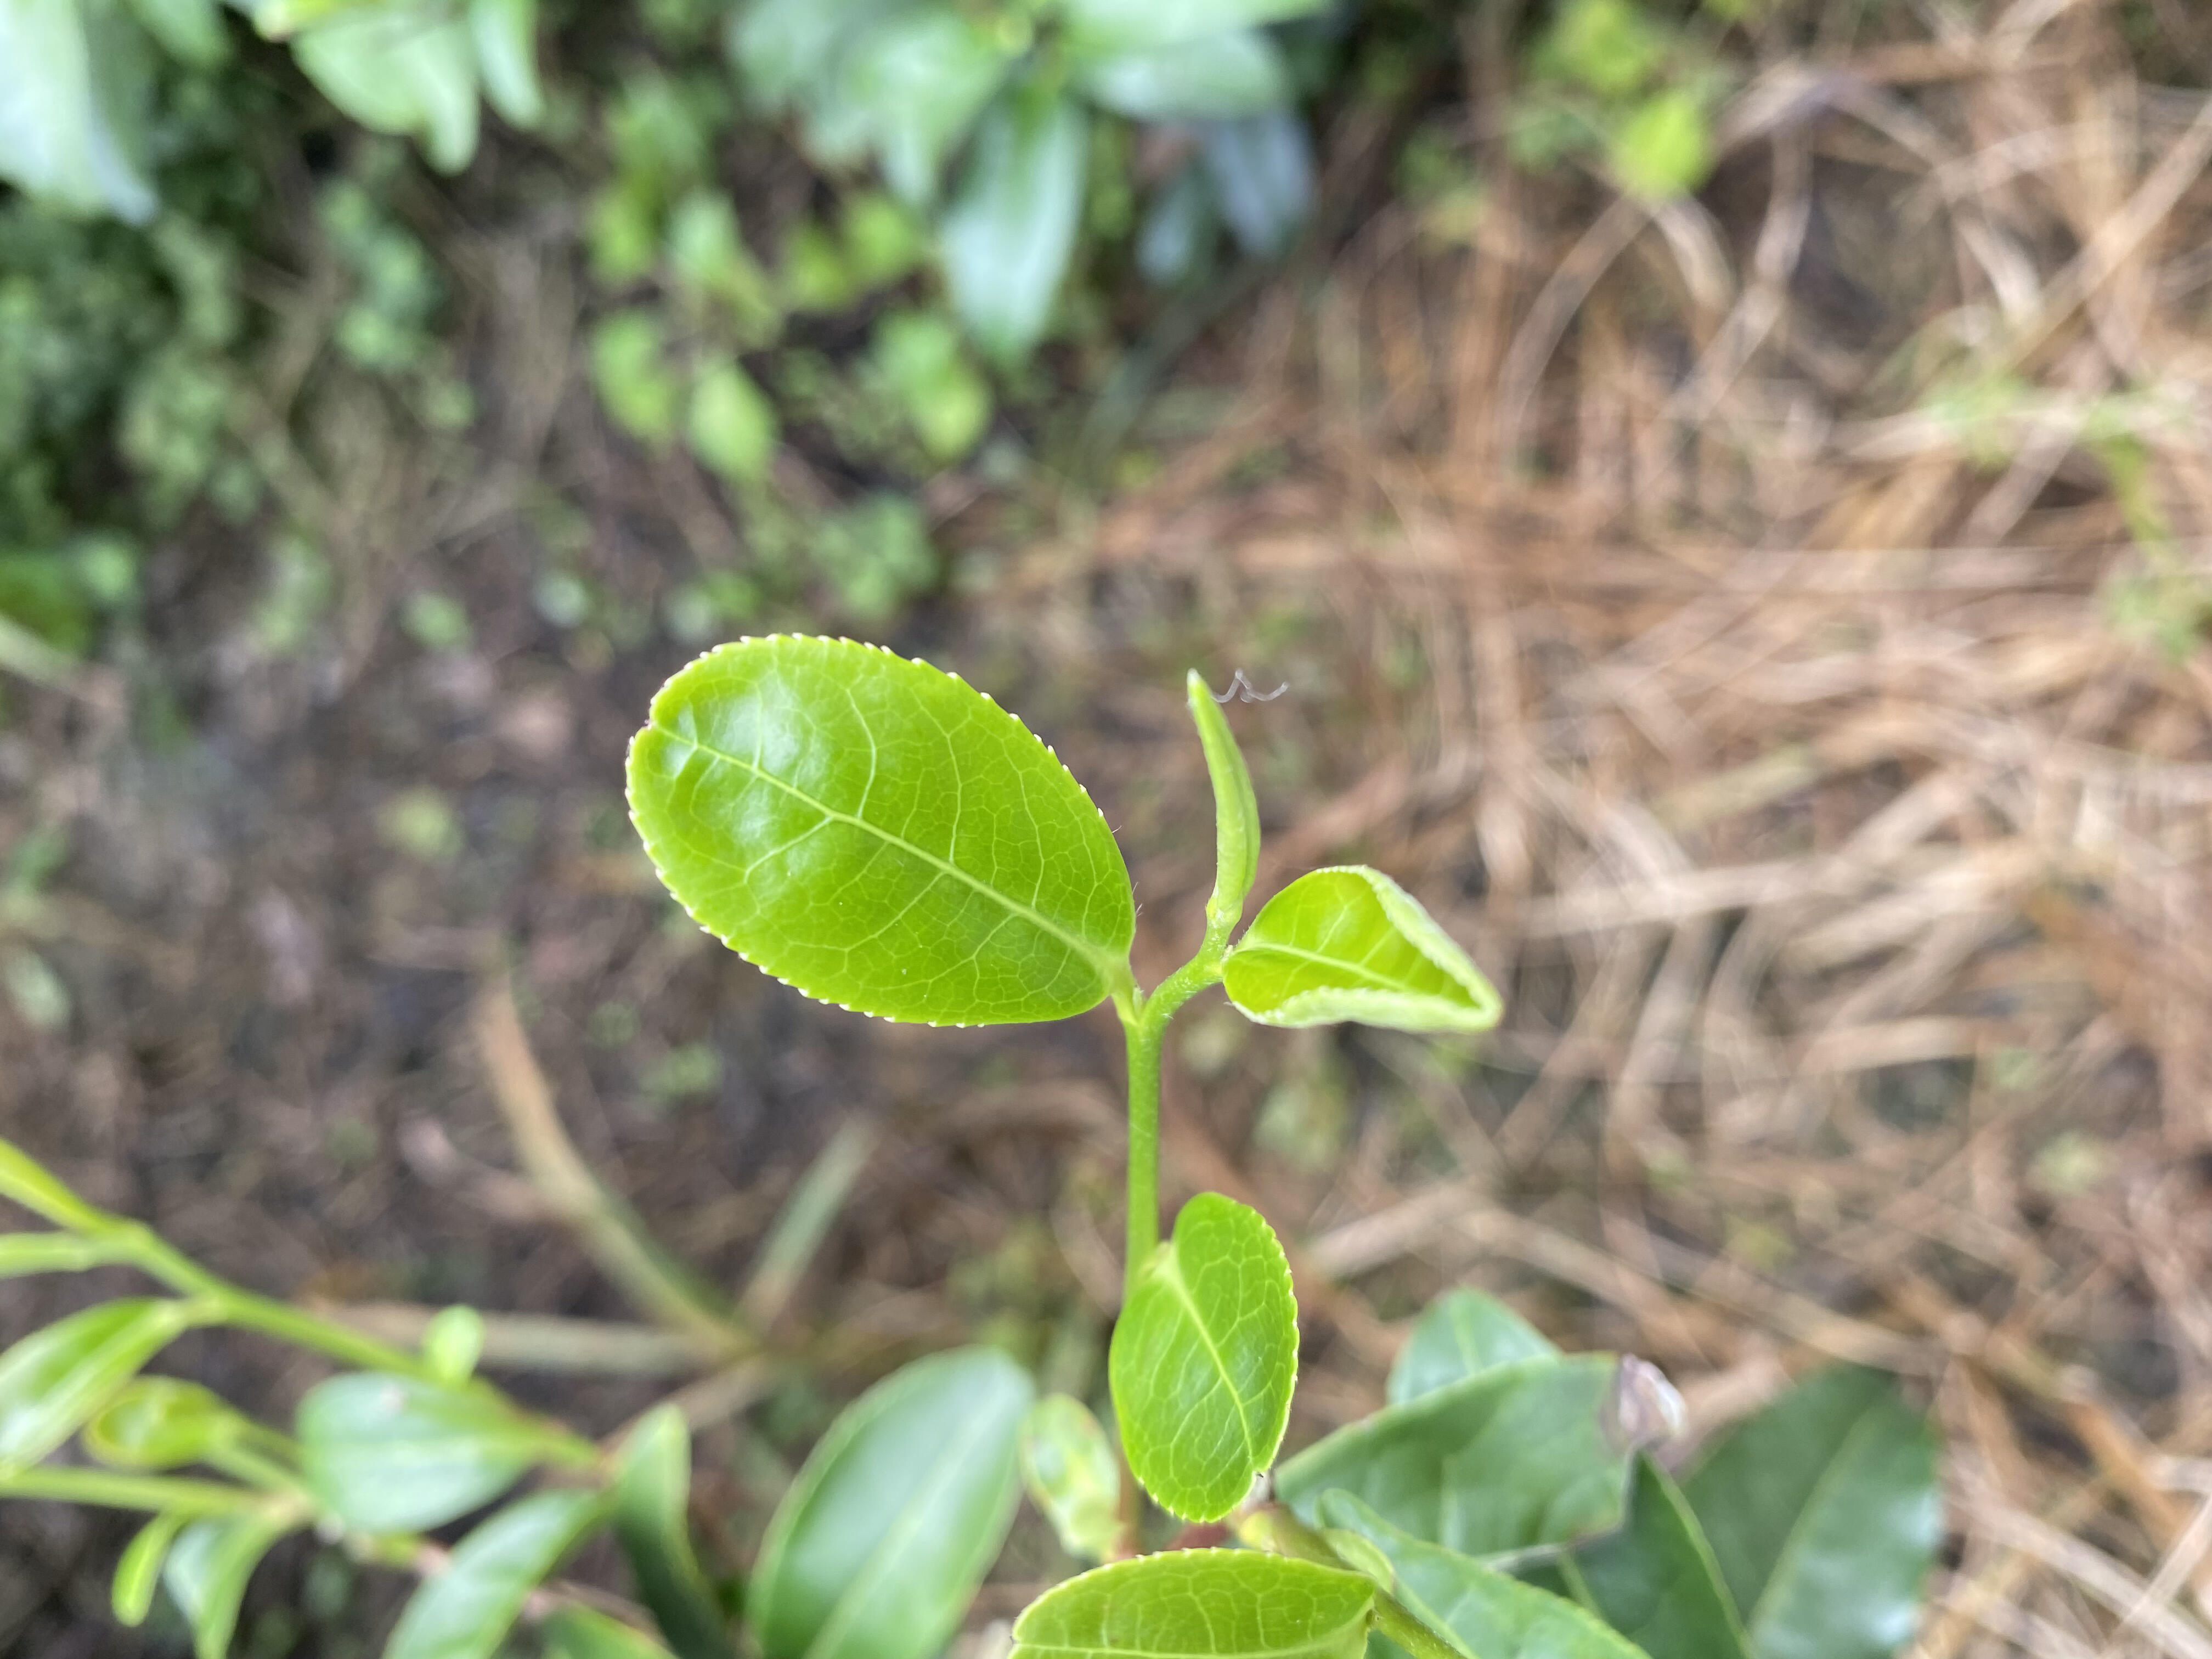healthy: (618, 631, 1137, 1028), (1104, 1188, 1305, 1530), (1224, 864, 1503, 1037)
tanju_high: (1277, 1349, 1689, 1581)
